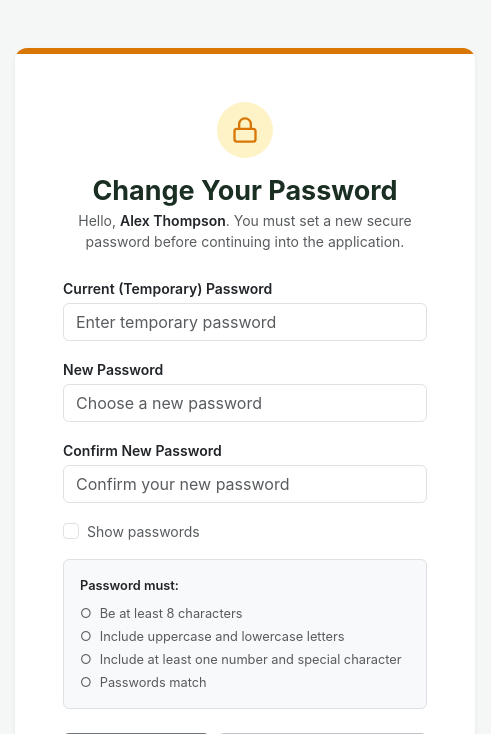
Test: Lab 03 - ChangePassword Component Tests › validates password complexity rules dynamically and enables submit button when valid
Enter current password
In the password field labelled "Current (Temporary) Password": coordinates (245, 322) x1=63 y1=303 x2=427 y2=341, type "Initial123!"
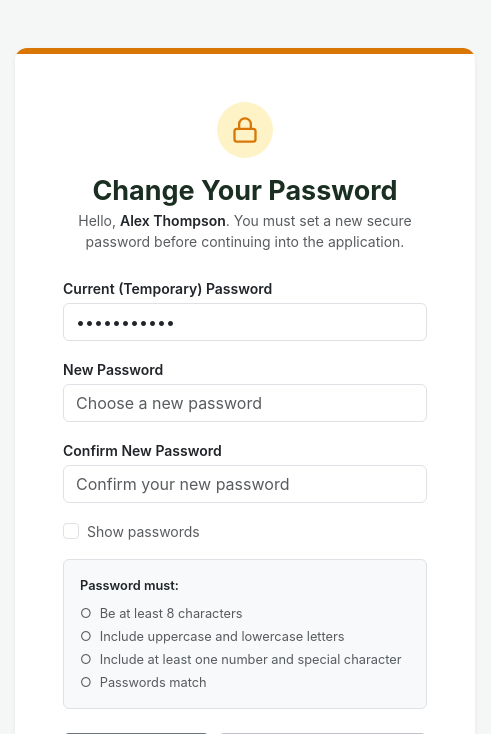
Enter weak password (too short, no special char)
In the password field labelled "New Password": coordinates (245, 403) x1=63 y1=384 x2=427 y2=422, type "weakpass"
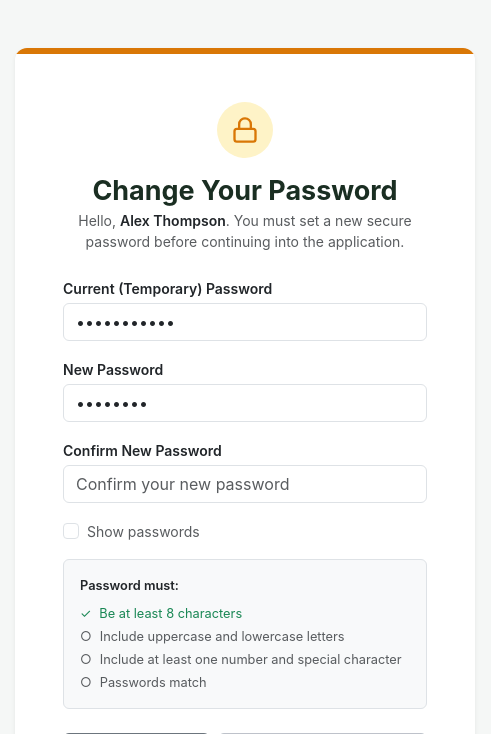
In the password field labelled "Confirm New Password": coordinates (245, 484) x1=63 y1=465 x2=427 y2=503, type "weakpass"
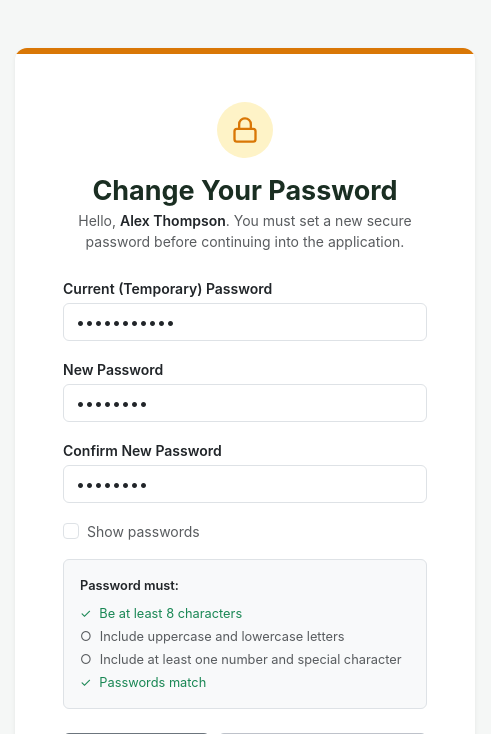
Enter valid compliant password: 8+ chars, upper, lower, number, special char
In the password field labelled "New Password": coordinates (245, 403) x1=63 y1=384 x2=427 y2=422, type "SecurePass2026!"
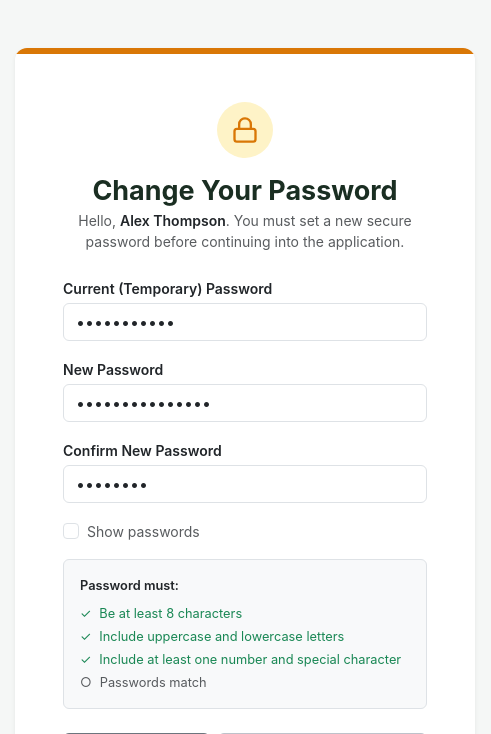
In the password field labelled "Confirm New Password": coordinates (245, 484) x1=63 y1=465 x2=427 y2=503, type "SecurePass2026!"
(page scrolled)
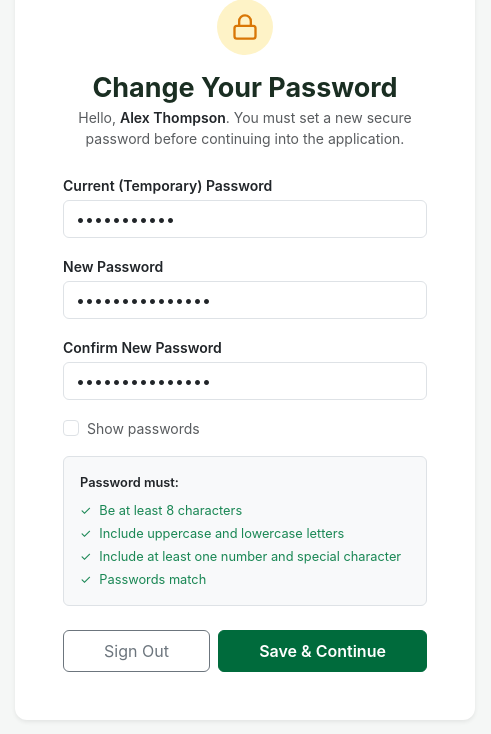
Result: the button "Save & Continue" is enabled at x1=218 y1=630 x2=427 y2=672
